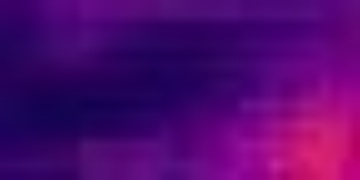Shadow: (1, 1, 359, 92), (1, 92, 252, 179)
